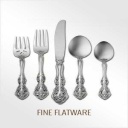Fork: (8, 24, 32, 101), (32, 11, 50, 102)
